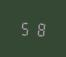eight: (32, 19, 44, 37)
five: (19, 19, 31, 36)
